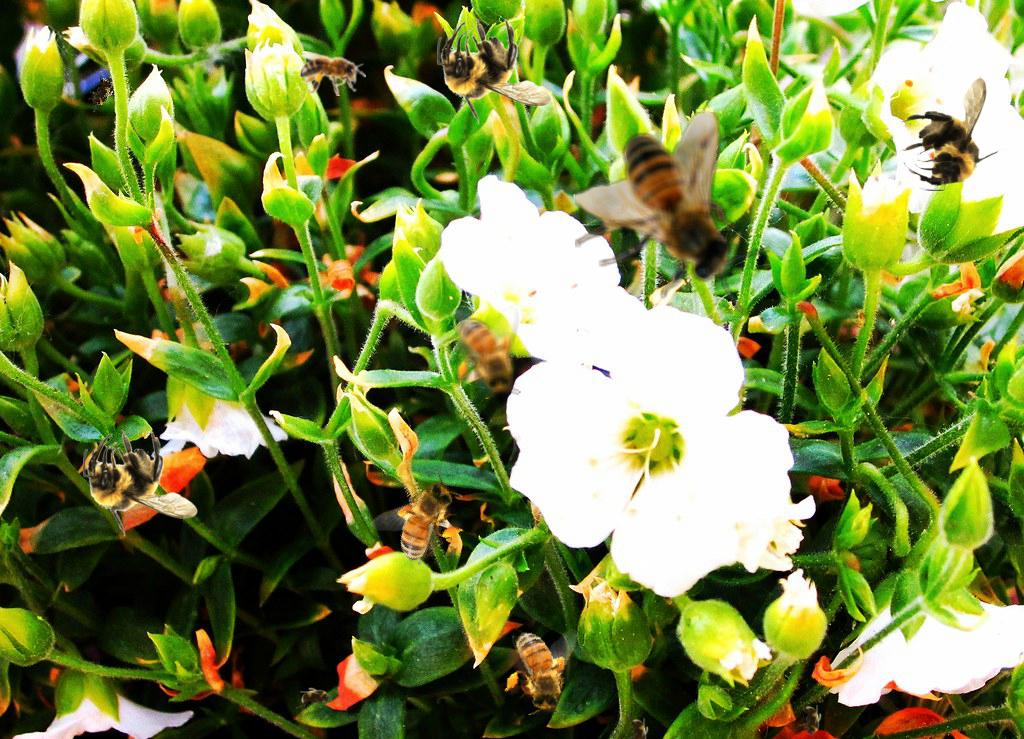Bee: (573, 110, 772, 314), (365, 467, 481, 576), (437, 18, 552, 125), (83, 430, 198, 537), (899, 76, 1006, 191), (497, 616, 583, 723), (453, 306, 521, 399), (300, 51, 366, 96), (81, 70, 121, 116), (296, 687, 336, 709), (800, 701, 822, 739), (627, 714, 649, 739)
